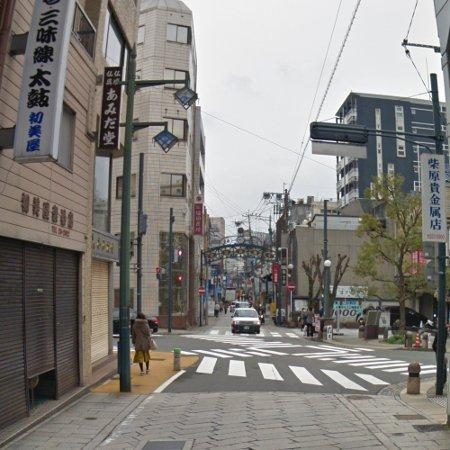crosswalks: (196, 353, 393, 391)
